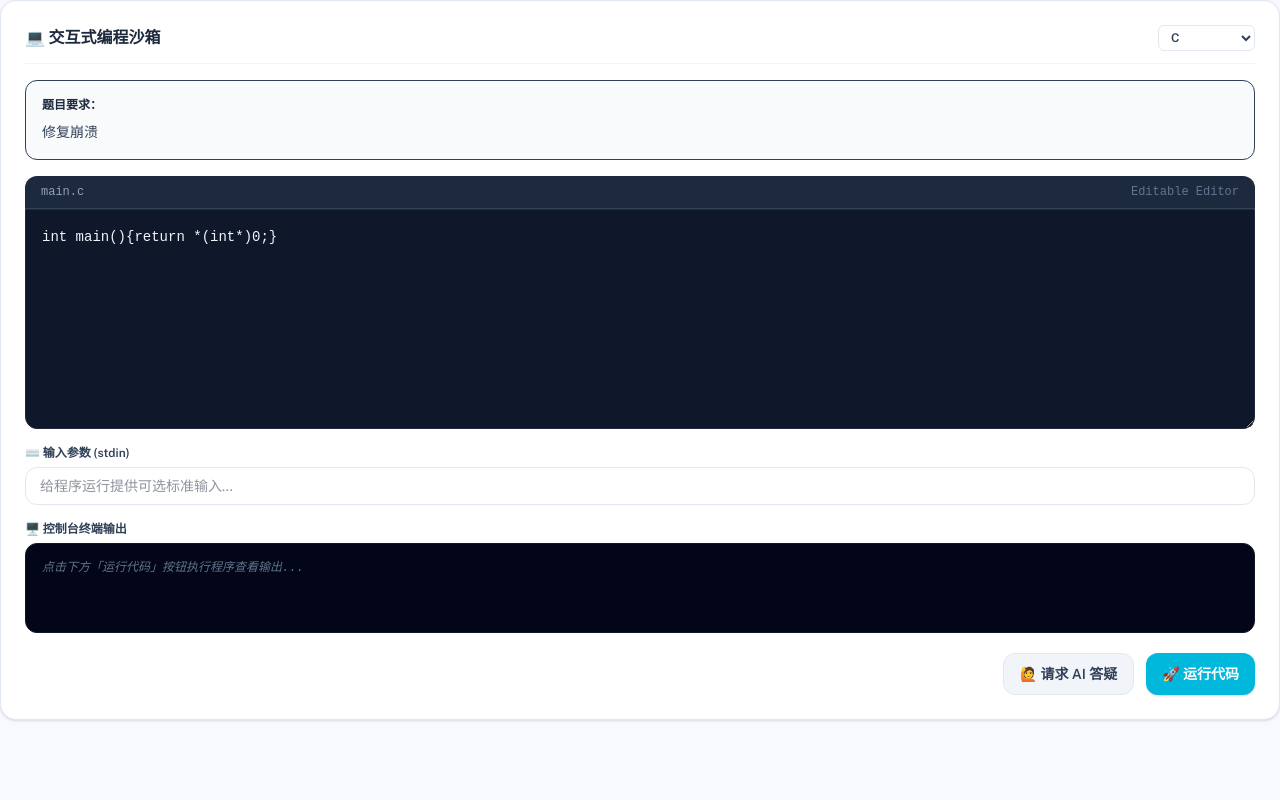
Test: renders runtime errors as failed execution instead of completed run
What coordinates should you click on to do the following:
click the button "🚀 运行代码"
I would click on:
 (1201, 674)
Its box is [1146,653,1255,695].
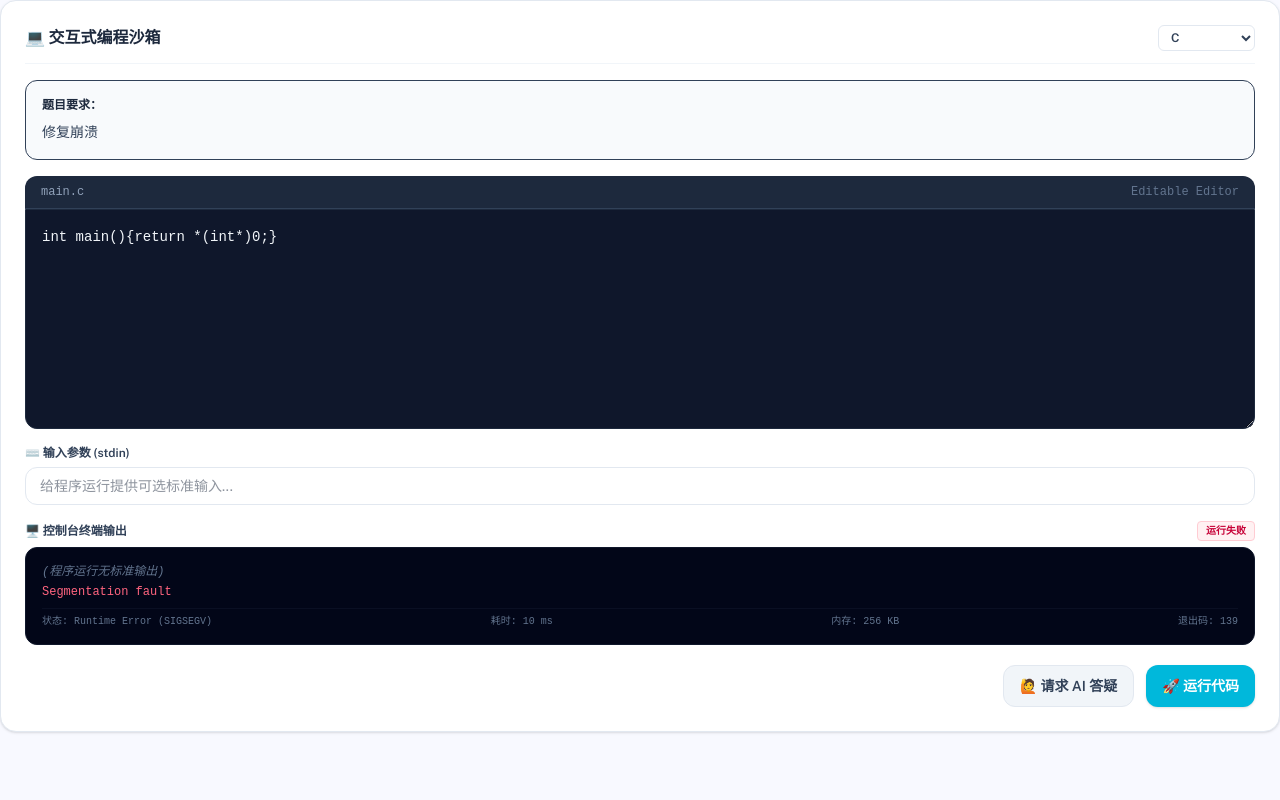
Expected: the text "运行失败" is shown, [1197,521,1255,541]
